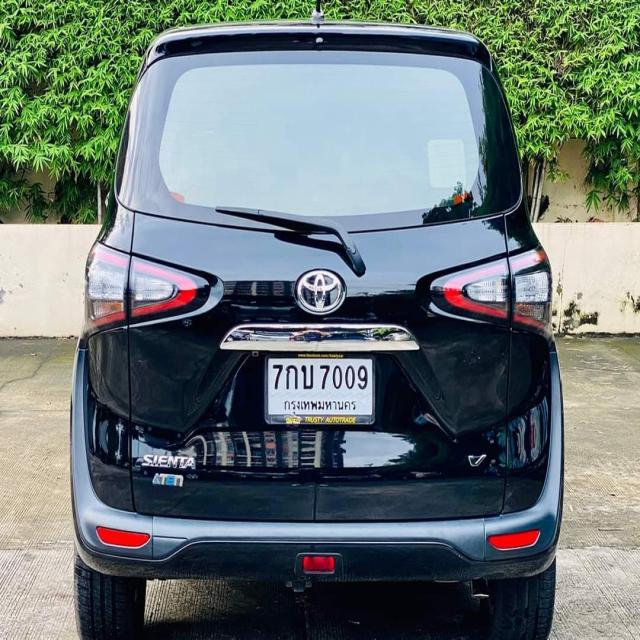license_plate: (264, 350, 378, 426)
